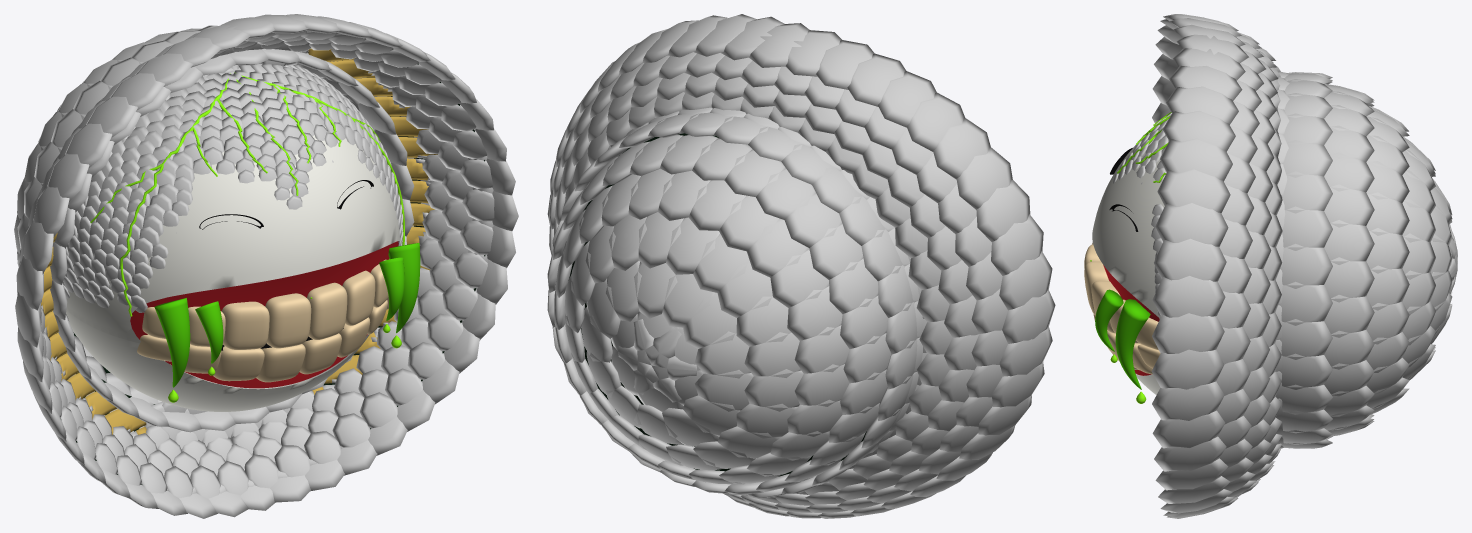
The model's file is VeniCrax_TeteSeule.obj.
3 renders of one model, left to right at view 1: azimuth 30°, elevation 25°; view 2: azimuth 150°, elevation 25°; view 3: azimuth 270°, elevation 25°, orthographic. The views are drawn at different scales.
Parts seen in each view (by area): view 1: V_HoodScalesBack, V_HoodScalesFront, Uppershell1, V_SkullScales_Moyen, V_SkullScales_Clair, V_SkullScales_Fonce, Lowershell1, V_HoodBellyBands, V_Fangs, Uppergums1, V_VenomVeins, Tooth031 (+12 smaller); view 2: V_HoodScalesBack; view 3: V_HoodScalesBack, Uppershell1, V_Fangs, V_SkullScales_Clair, Tooth041, V_SkullScales_Moyen, Tooth051, Tooth071.
Part boxes in pixels (box(x1,y1,x2,y2)): V_HoodScalesBack: box(14, 14, 518, 518); V_HoodScalesFront: box(38, 30, 494, 498); Uppershell1: box(64, 127, 400, 343); V_SkullScales_Moyen: box(73, 91, 391, 245); V_SkullScales_Clair: box(63, 113, 403, 312); V_SkullScales_Fonce: box(111, 63, 347, 160); Lowershell1: box(66, 310, 369, 411); V_HoodBellyBands: box(41, 48, 437, 434); V_Fangs: box(154, 243, 420, 387); Uppergums1: box(130, 241, 398, 339); V_VenomVeins: box(90, 72, 404, 316); Tooth031: box(265, 293, 311, 348); V_HoodScalesBack: box(547, 14, 1055, 518); V_HoodScalesBack: box(1151, 14, 1457, 518); Uppershell1: box(1092, 139, 1166, 318); V_Fangs: box(1095, 289, 1150, 389); V_SkullScales_Clair: box(1113, 112, 1171, 318); Tooth041: box(1084, 261, 1108, 315); V_SkullScales_Moyen: box(1131, 120, 1169, 161); Tooth051: box(1091, 281, 1120, 333); Tooth071: box(1136, 317, 1158, 350).
Bounding box in the file's own units: 12.46 × 11.84 × 8.8.
